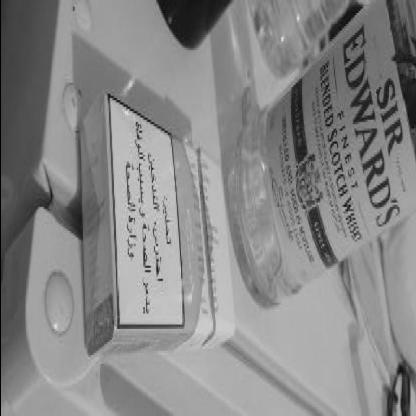objects: (78, 92, 233, 356)
